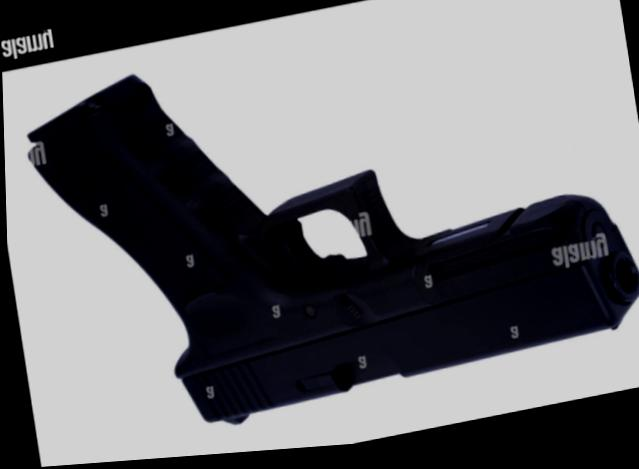pistol: (25, 0, 639, 465)
